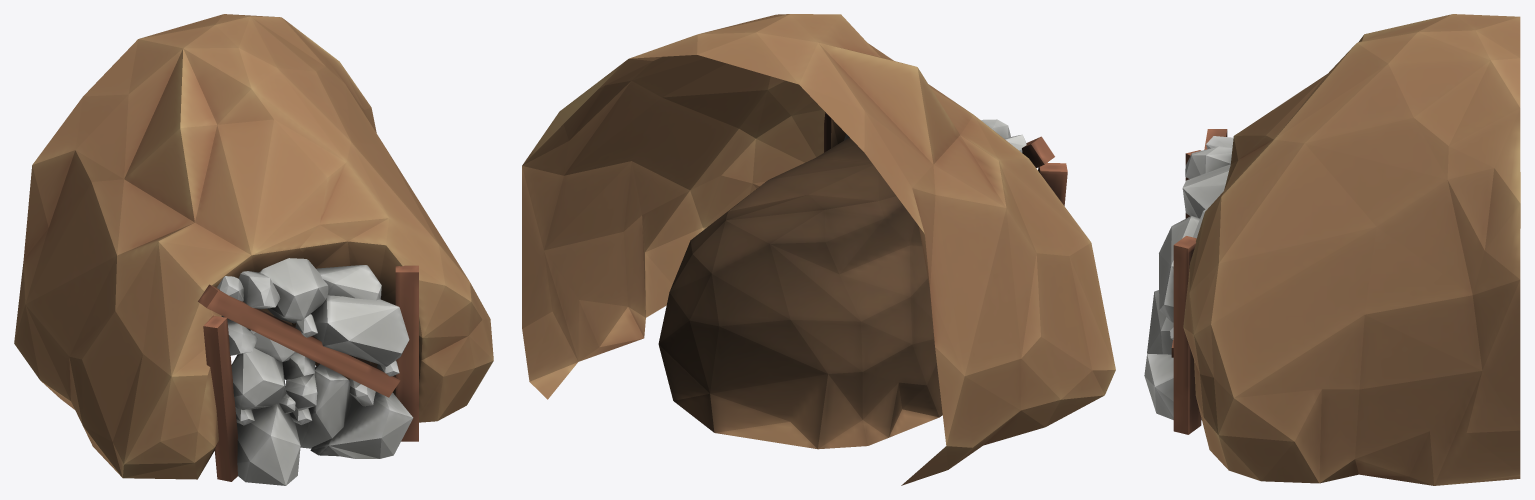
File: Mountain rock_022.fbx
3 views of the same model, side by side, from view 1: azimuth 30°, elevation 25°; view 2: azimuth 150°, elevation 25°; view 3: azimuth 270°, elevation 25° (orthographic). The views are drawn at different scales.
Visible parts, largest first — view 1: Mountain rock_022; view 2: Mountain rock_022; view 3: Mountain rock_022.
Boxes of the visible parts, <box> form: Mountain rock_022: <box>14,14,493,485</box>; Mountain rock_022: <box>522,14,1115,485</box>; Mountain rock_022: <box>1144,14,1520,485</box>.
Size of the model in its own units: 146 by 124 by 116.
